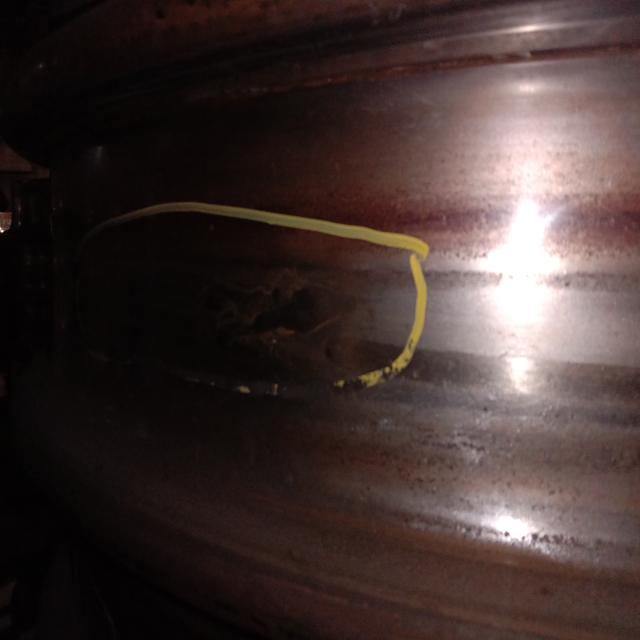flat: (213, 261, 346, 362)
